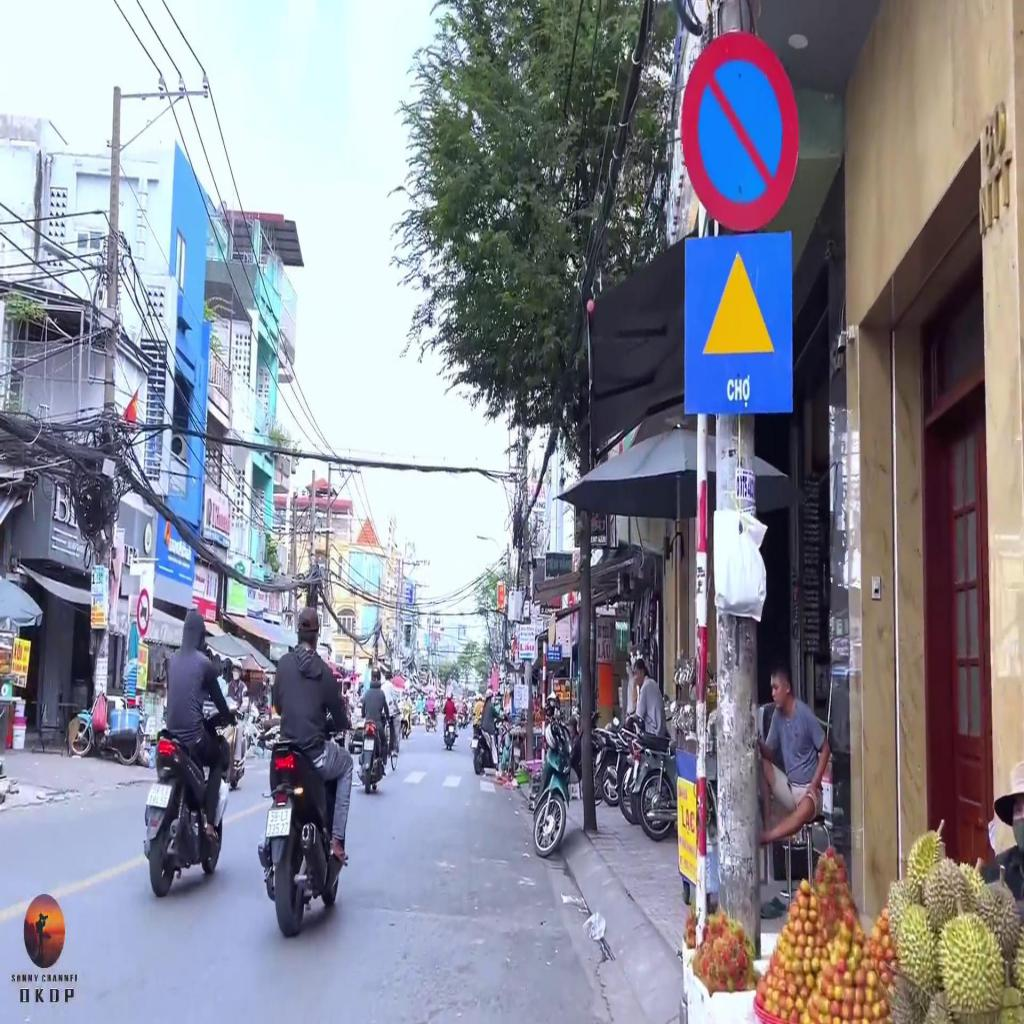cam_do_xe: (678, 33, 799, 232)
cam_o_to_tai: (138, 590, 149, 635)
cho: (680, 234, 796, 415)
